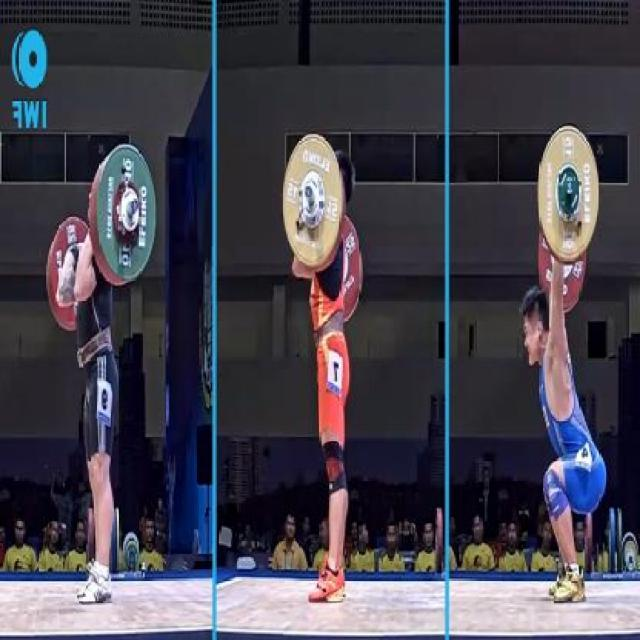Barbell: (302, 180, 316, 205), (564, 169, 576, 197), (128, 196, 141, 218)
